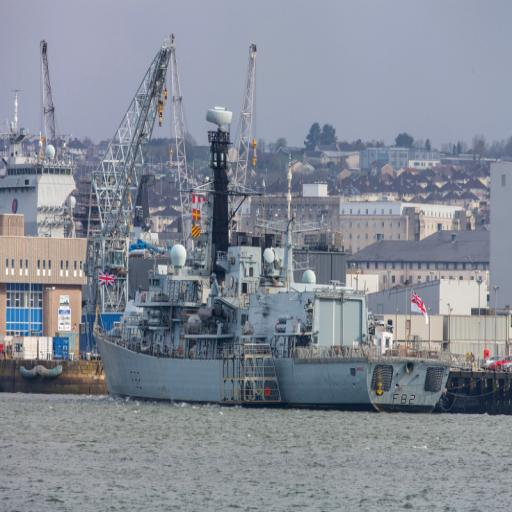Fragata: (89, 96, 455, 417)
